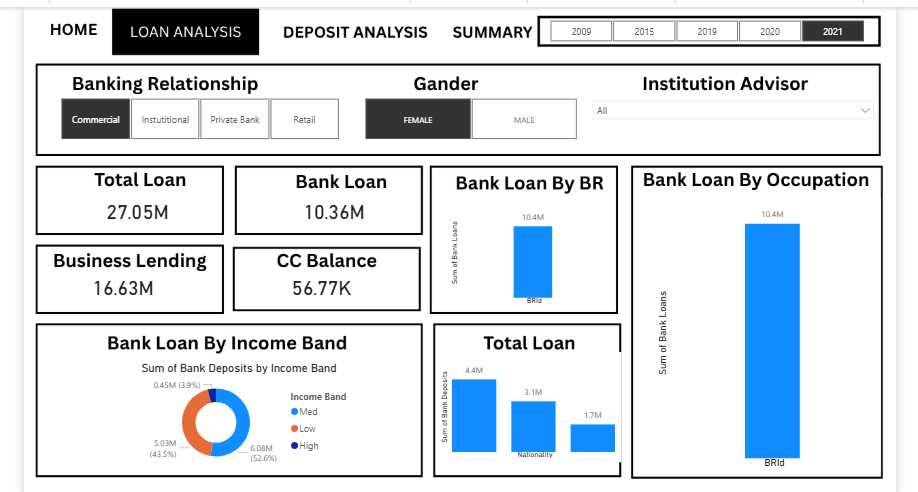

What the dashboard file says about the page in this screenshot:
{"tool":"powerbi","page":{"name":"Loan Analysis","canvas":[1280,720],"ordinal":1},"visuals":[{"type":"slicer","fields":{"Values":["customer.join_Year"]},"box":[747.9,13.2,509.9,44.1],"z":0},{"type":"actionButton","box":[16.2,14.7,99.9,39.7],"z":1000},{"type":"actionButton","box":[365.9,14.7,241,42.6],"z":2000},{"type":"actionButton","box":[621.6,14.7,126.4,39.7],"z":3000},{"type":"card","fields":{"Values":["customer.Total Loan"]},"box":[52.9,271.8,227.8,55.8],"z":4000},{"type":"card","fields":{"Values":["Sum(customer.Credit Card Balance)"]},"box":[332.1,387.9,208.7,45.6],"z":5000},{"type":"card","fields":{"Values":["Sum(customer.Business Lending)"]},"box":[39.7,387.9,211.6,45.6],"z":6000},{"type":"card","fields":{"Values":["Sum(customer.Bank Loans)"]},"box":[351.2,271.8,208.7,55.8],"z":7000},{"type":"clusteredColumnChart","fields":{"Category":["customer.BRId"],"Y":["Sum(customer.Bank Loans)"]},"box":[621.6,280.7,239.5,161.6],"z":8000},{"type":"clusteredColumnChart","fields":{"Y":["Sum(customer.Bank Loans)"],"Category":["customer.BRId"]},"box":[926.1,279.9,332.8,401.4],"z":9000},{"type":"slicer","fields":{"Values":["customer.BRId"]},"box":[29.4,127.8,457,73.5],"z":10000},{"type":"slicer","fields":{"Values":["customer.GenderId"]},"box":[476.1,127.8,360,73.5],"z":11000},{"type":"slicer","fields":{"Values":["customer.IAId"]},"box":[825.7,128.5,433.1,72.2],"z":12000},{"type":"donutChart","fields":{"Category":["customer.Income Band"],"Y":["Sum(customer.Bank Deposits)"]},"box":[167.5,520.2,329.1,161.6],"z":13000},{"type":"clusteredColumnChart","fields":{"Category":["customer.Nationality"],"Y":["Sum(customer.Bank Deposits)"]},"box":[607.4,507.1,271.1,162],"z":14000}]}

Visuals, with their boxes on the page's 1280x720 design canvas (x1, y1, x2, y2). These are canvas units, not pixel positions in the 918x492 screenshot, which may show the page scaled, cropped or inside an application window:
slicer - customer.join_Year: {"left": 748, "top": 13, "right": 1258, "bottom": 57}
actionButton: {"left": 16, "top": 15, "right": 116, "bottom": 54}
actionButton: {"left": 366, "top": 15, "right": 607, "bottom": 57}
actionButton: {"left": 622, "top": 15, "right": 748, "bottom": 54}
card - customer.Total Loan: {"left": 53, "top": 272, "right": 281, "bottom": 328}
card - Sum(customer.Credit Card Balance): {"left": 332, "top": 388, "right": 541, "bottom": 434}
card - Sum(customer.Business Lending): {"left": 40, "top": 388, "right": 251, "bottom": 434}
card - Sum(customer.Bank Loans): {"left": 351, "top": 272, "right": 560, "bottom": 328}
clusteredColumnChart - customer.BRId x Sum(customer.Bank Loans): {"left": 622, "top": 281, "right": 861, "bottom": 442}
clusteredColumnChart - Sum(customer.Bank Loans) x customer.BRId: {"left": 926, "top": 280, "right": 1259, "bottom": 681}
slicer - customer.BRId: {"left": 29, "top": 128, "right": 486, "bottom": 201}
slicer - customer.GenderId: {"left": 476, "top": 128, "right": 836, "bottom": 201}
slicer - customer.IAId: {"left": 826, "top": 128, "right": 1259, "bottom": 201}
donutChart - customer.Income Band x Sum(customer.Bank Deposits): {"left": 168, "top": 520, "right": 497, "bottom": 682}
clusteredColumnChart - customer.Nationality x Sum(customer.Bank Deposits): {"left": 607, "top": 507, "right": 878, "bottom": 669}
